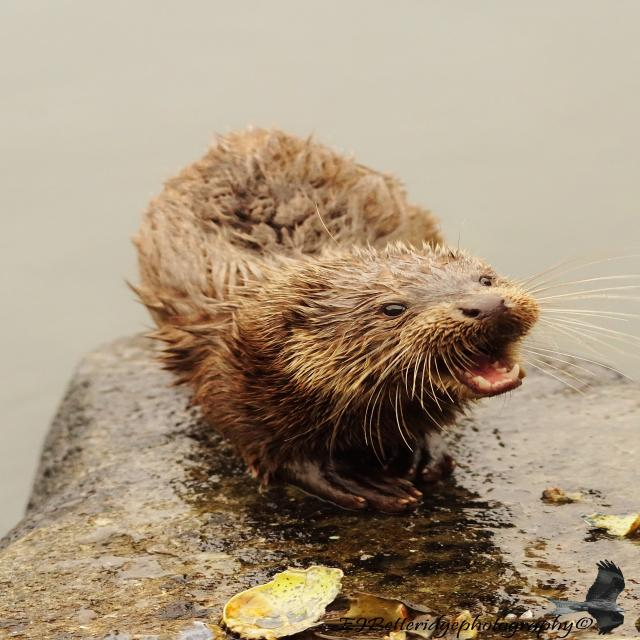otter: (138, 131, 536, 472)
